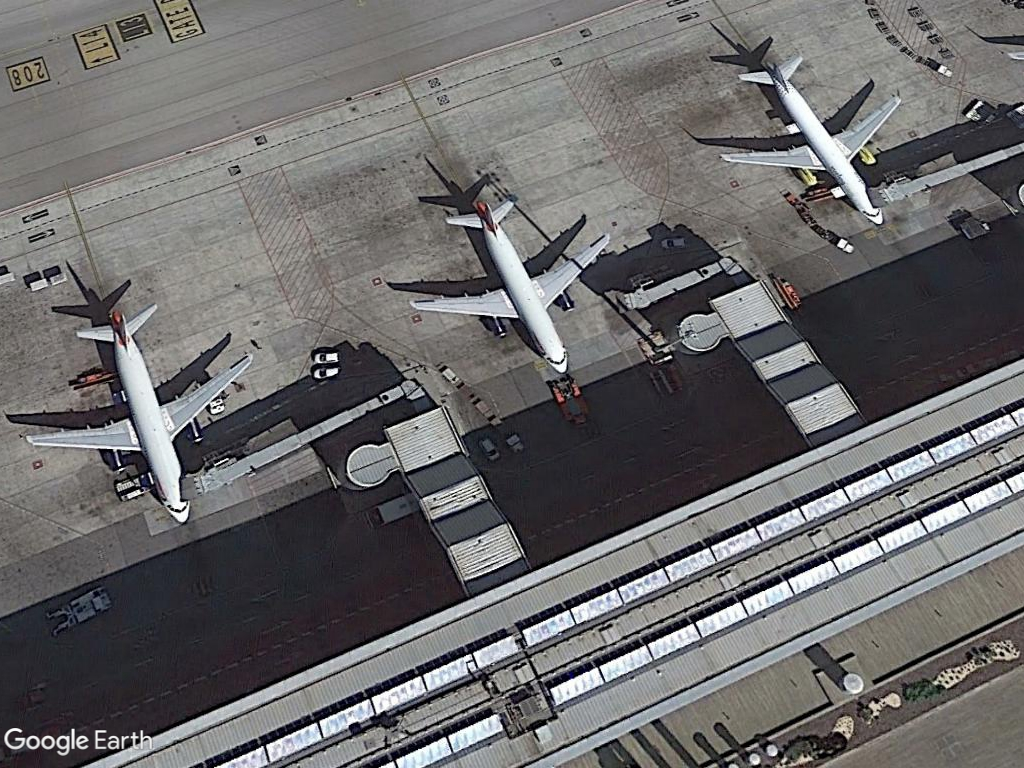airliner: (13, 304, 260, 527), (397, 200, 613, 375), (704, 57, 902, 230)
pushbacktruck: (36, 587, 122, 638), (542, 375, 596, 431)
